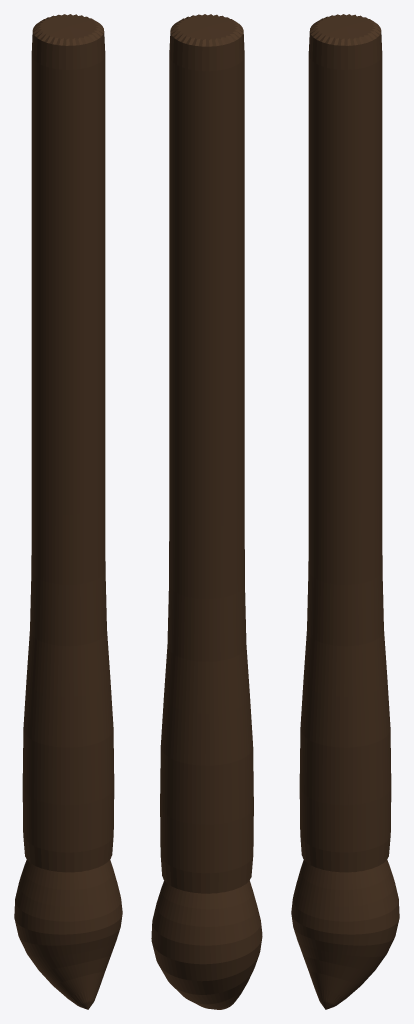
Rendered from Brush_V2.fbx.
3 views of the same model, side by side, from view 1: azimuth 30°, elevation 25°; view 2: azimuth 150°, elevation 25°; view 3: azimuth 330°, elevation 25° (orthographic). The views are drawn at different scales.
Parts seen in each view (by area): view 1: Cylinder.007; view 2: Cylinder.007; view 3: Cylinder.007.
Boxes of the visible parts, box(x1,y1,x2,y2) form: Cylinder.007: box(14, 14, 122, 1009); Cylinder.007: box(151, 14, 262, 1009); Cylinder.007: box(291, 14, 399, 1009).
Bounding box in the file's own units: 1.78 × 17.49 × 1.76.
